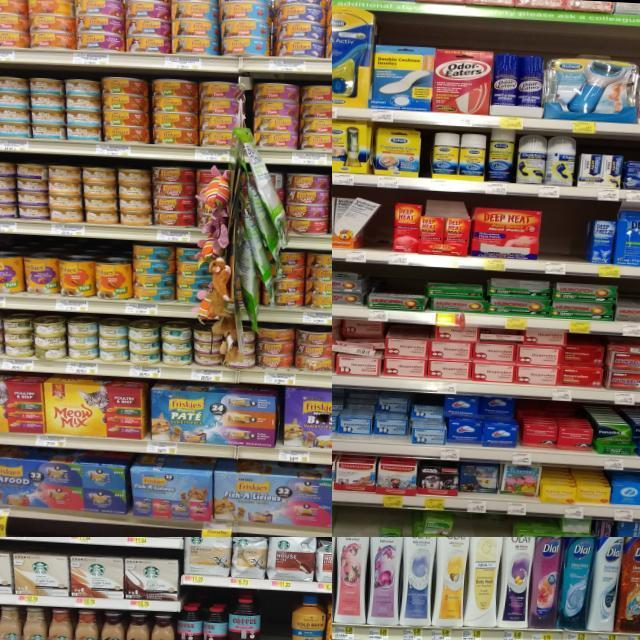empty: (542, 205, 584, 274), (358, 212, 387, 262), (260, 594, 291, 640), (335, 505, 373, 537), (451, 516, 480, 537), (481, 518, 513, 537)
